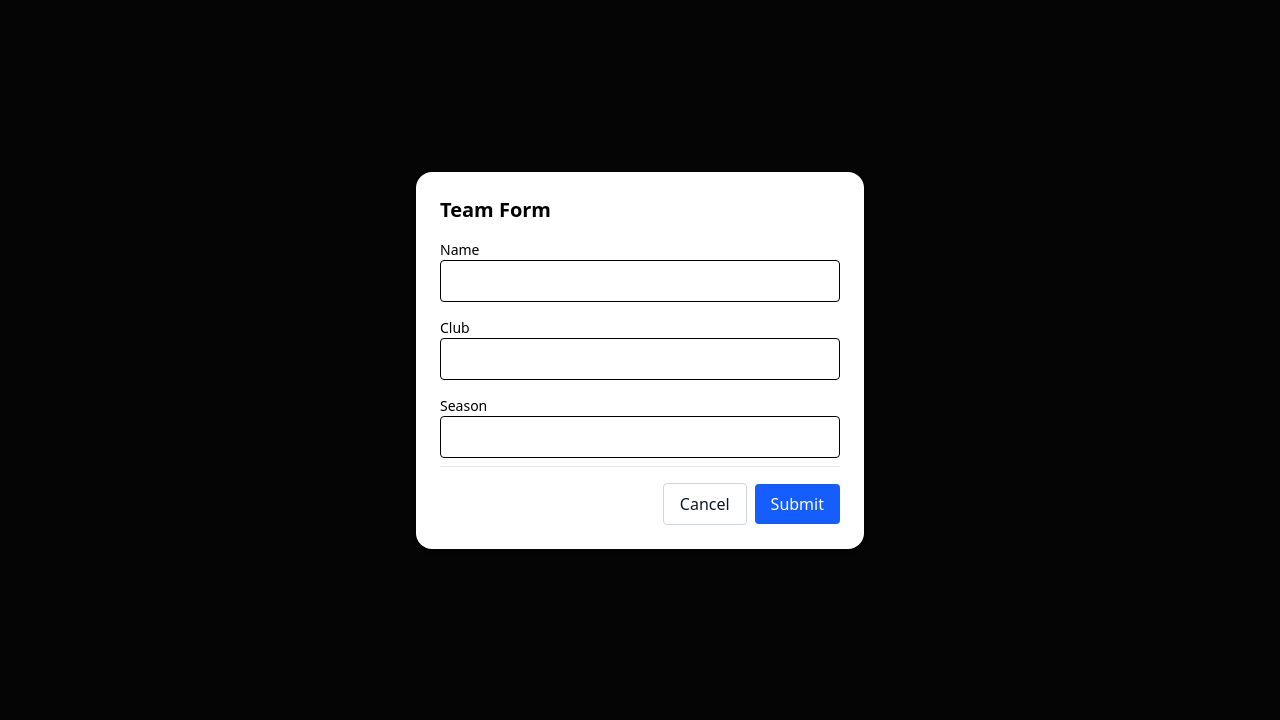
it: a rejected create renders an error and does not close the popup (AC CRUD-01.1)
Step 1. Type "Sub-15" into the field named "name" → (640, 280), box x1=440 y1=260 x2=840 y2=302
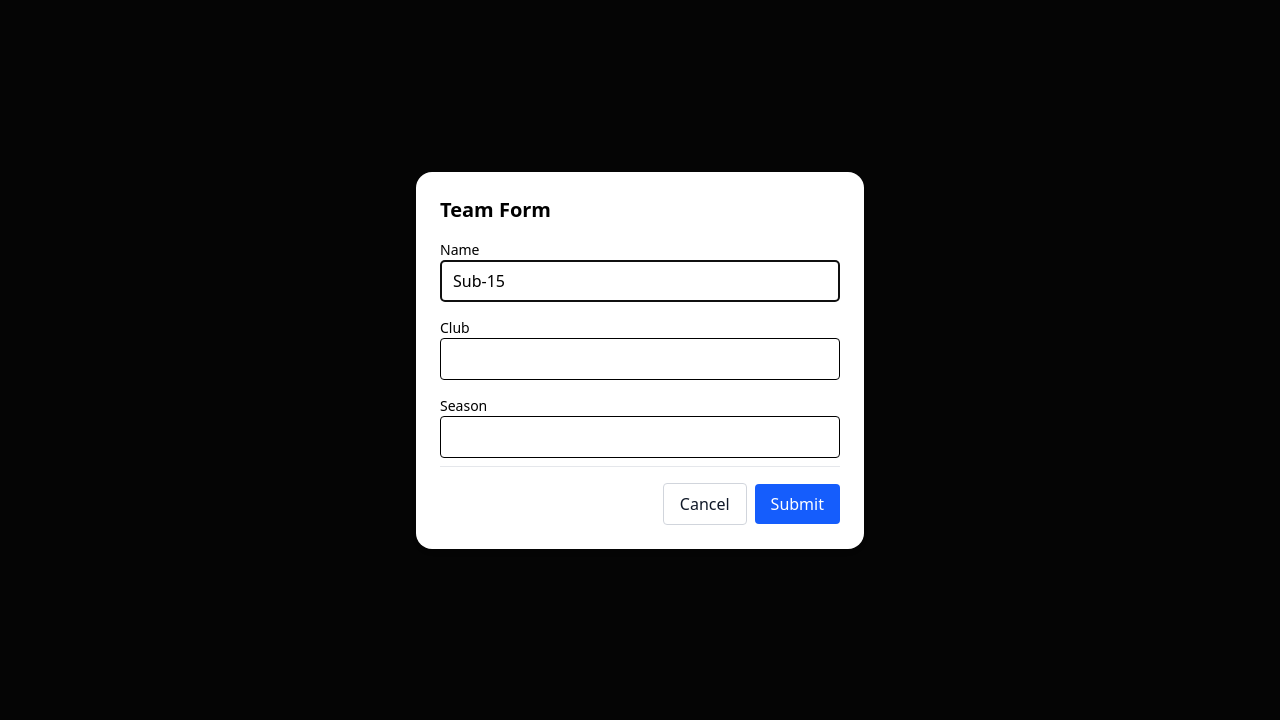
Step 2. Type "TestClub" into the field named "club" → (640, 358), box x1=440 y1=338 x2=840 y2=380
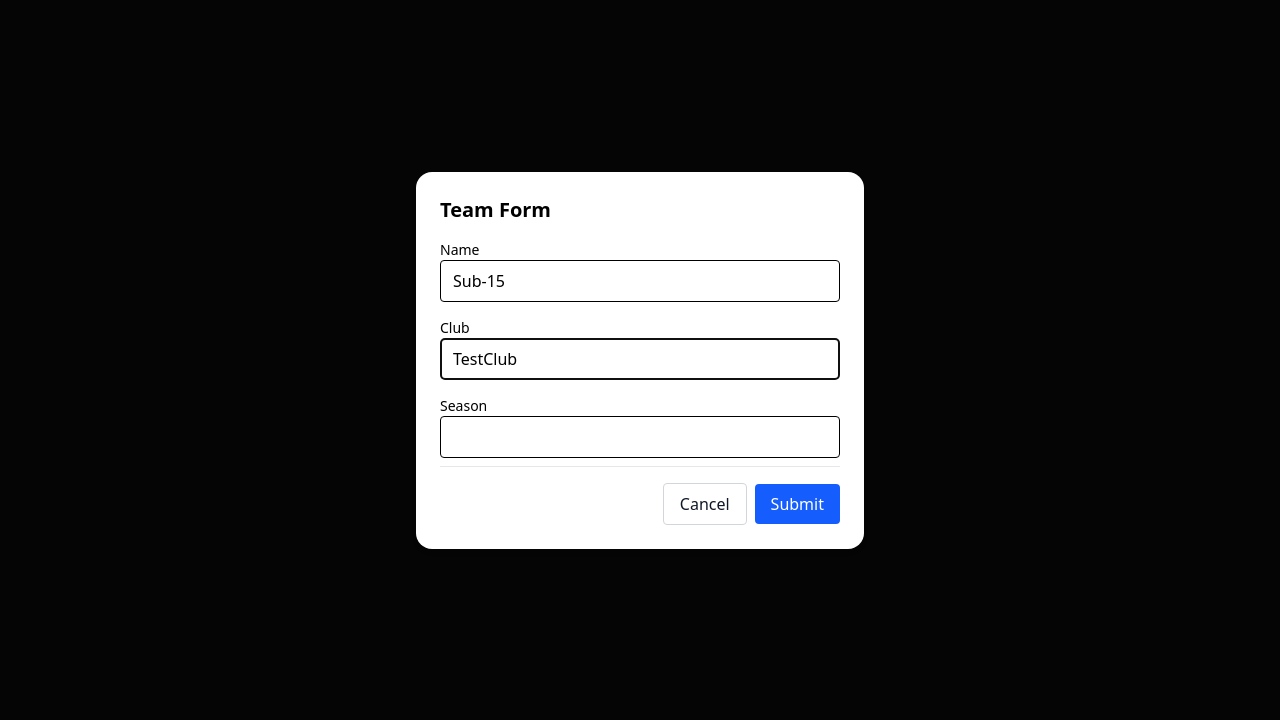
Step 3. Type "24/25" into the field named "season" → (640, 436), box x1=440 y1=416 x2=840 y2=458
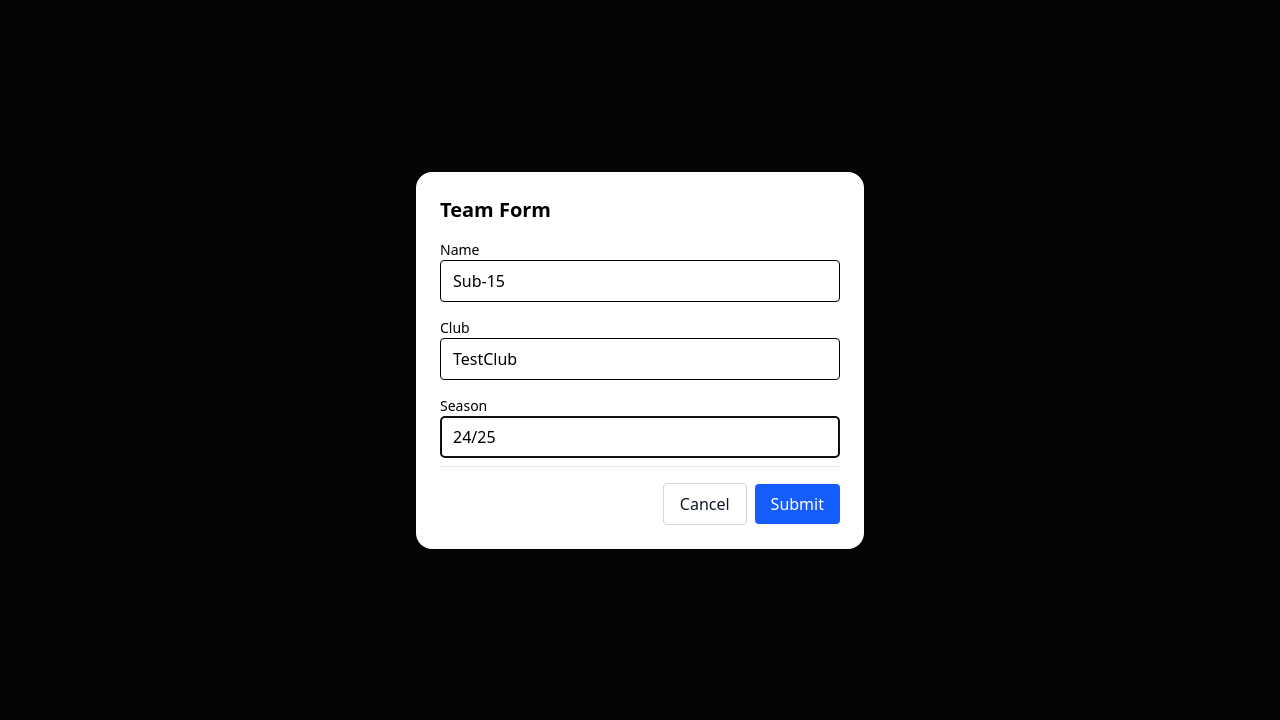
Step 4. Click the button "Submit" → click(797, 504), box x1=755 y1=484 x2=840 y2=524
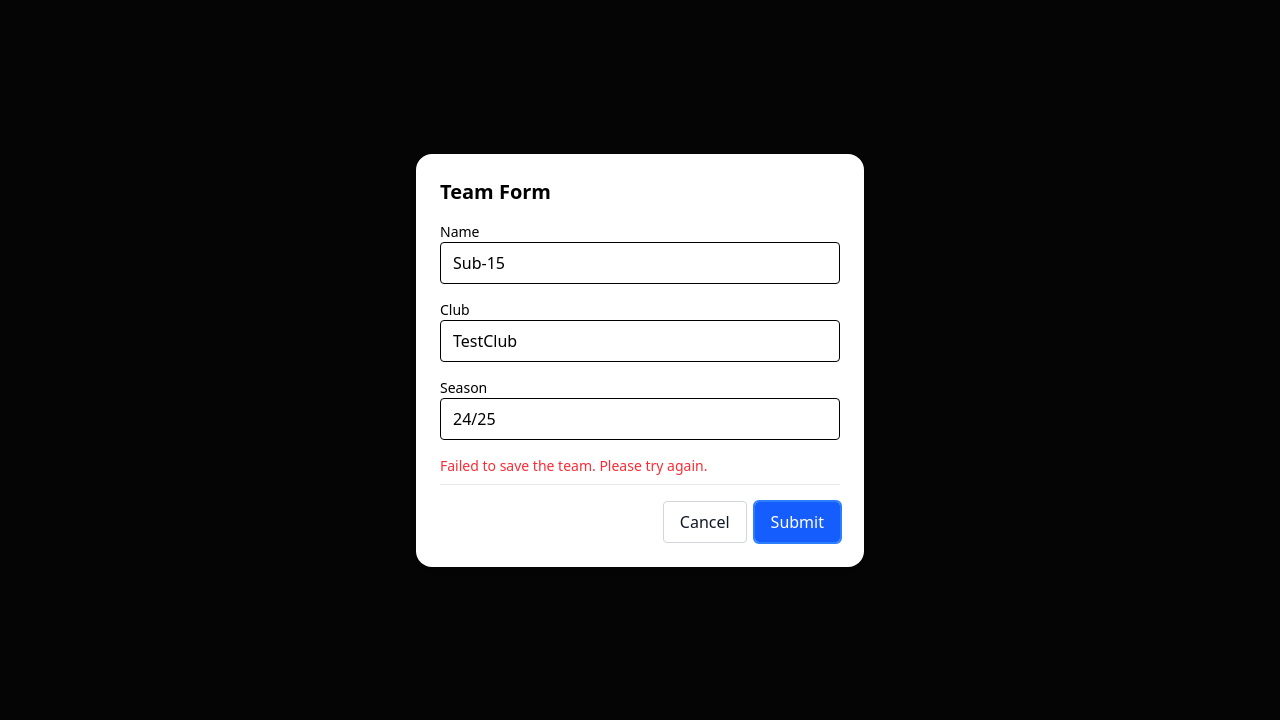
Now the text "Failed to save the team. Please try again." is shown, box x1=440 y1=456 x2=707 y2=474
